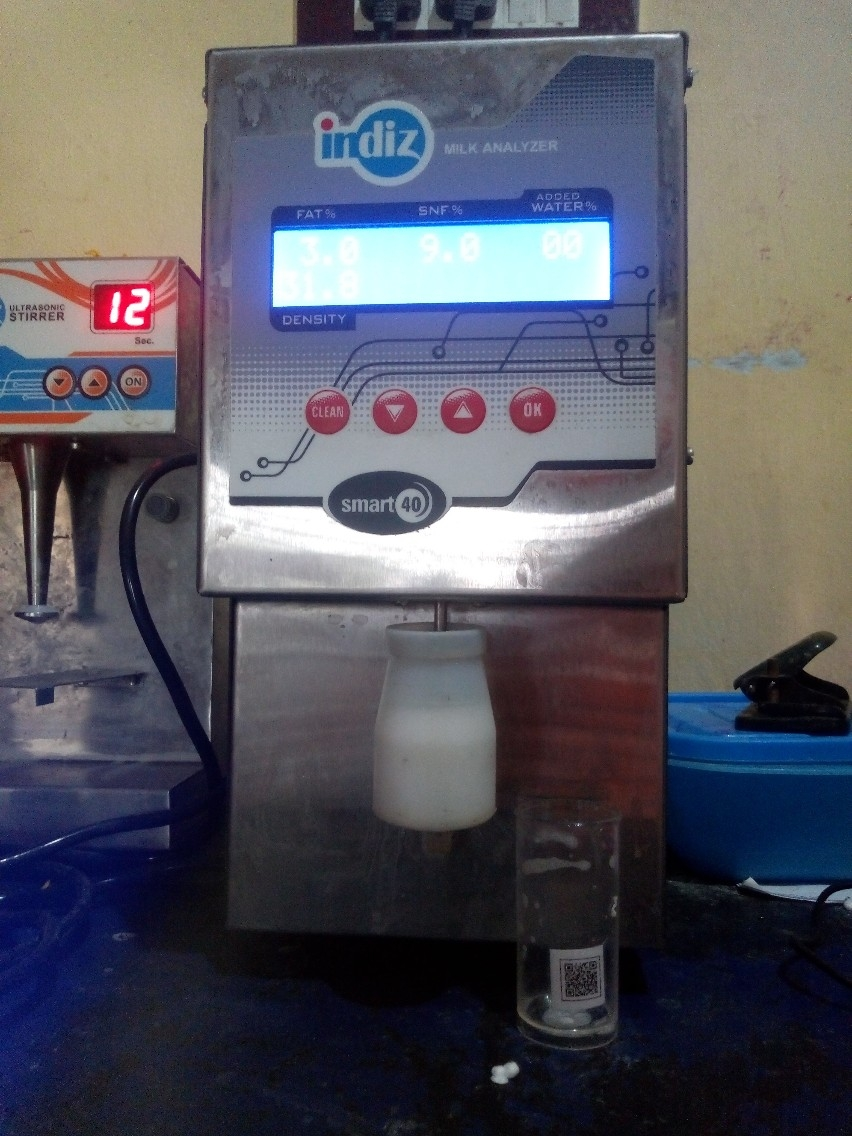lcd: (259, 216, 626, 318)
qr: (554, 947, 621, 1009)
